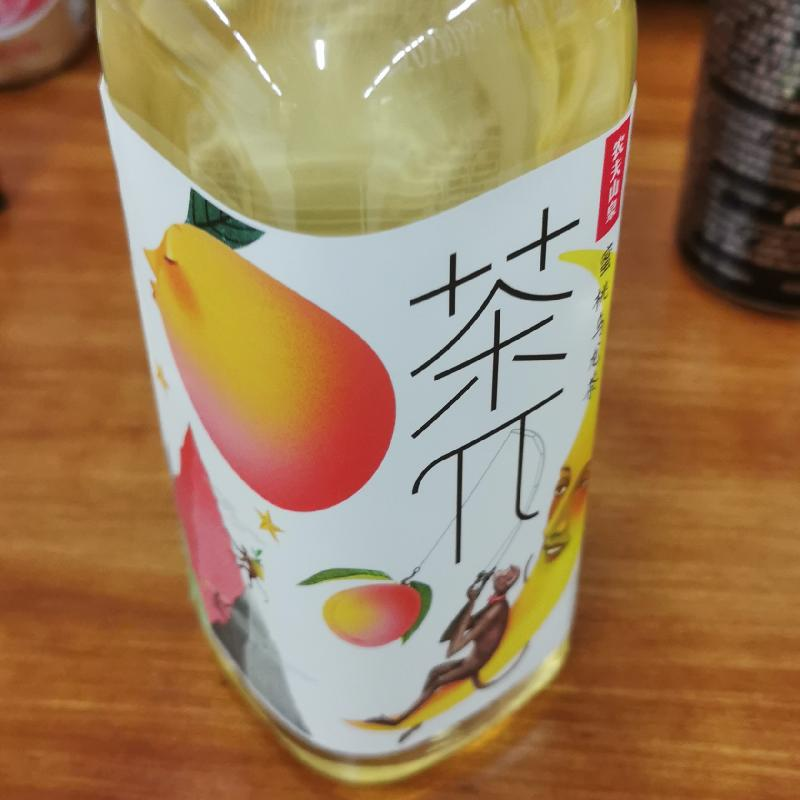bottles: (85, 3, 651, 772)
